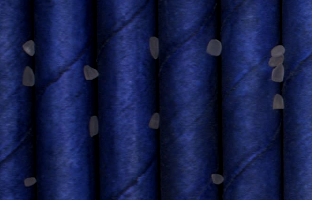broken_grain: (206, 38, 223, 59), (269, 62, 286, 83), (267, 53, 290, 67), (86, 116, 100, 138), (271, 92, 286, 112), (270, 42, 287, 59), (22, 66, 35, 87), (83, 65, 99, 82), (149, 36, 160, 60), (148, 111, 160, 132), (210, 173, 225, 186), (23, 176, 38, 188)
milky_broken_grain: (20, 39, 37, 59)
